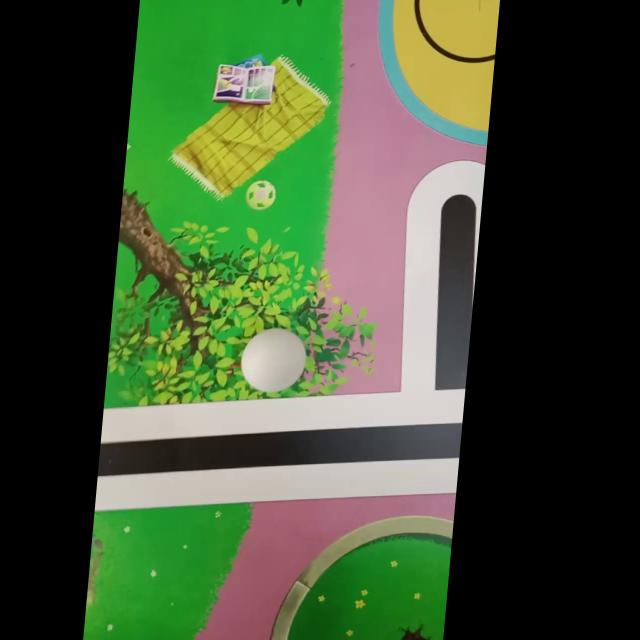white ball: (237, 327, 309, 393)
